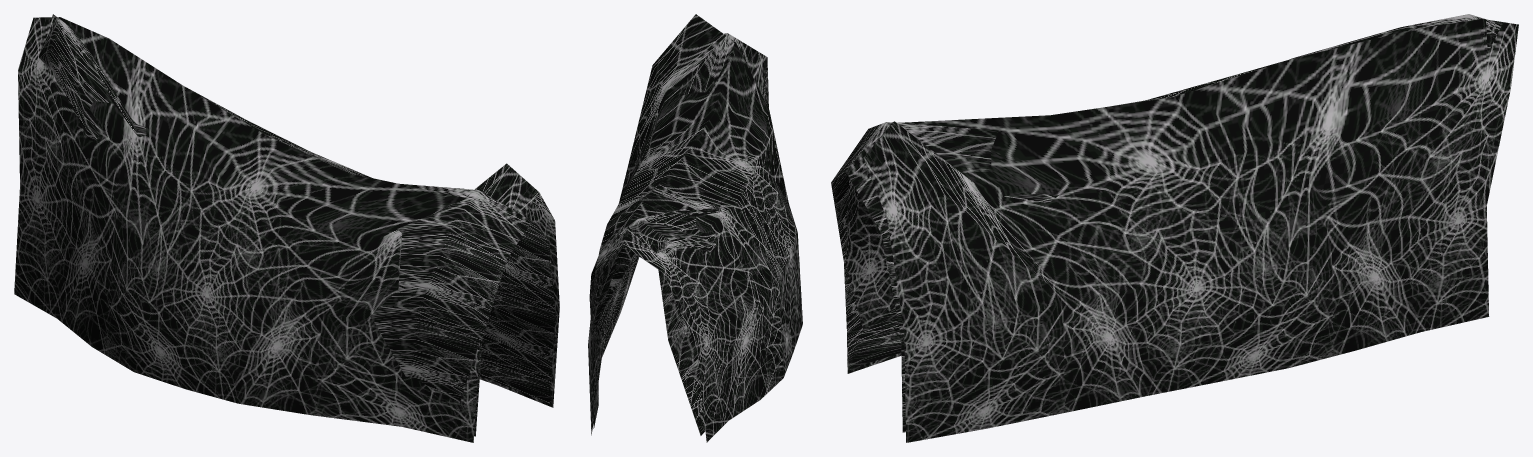
Rendered from INST_MIRK_COCOON.fbx.
The picture shows the model from 3 angles, left to right: view 1: azimuth 30°, elevation 25°; view 2: azimuth 150°, elevation 25°; view 3: azimuth 270°, elevation 25°; orthographic projection. The views are drawn at different scales.
Visible parts, largest first — view 1: INST_MIRK_COCOON; view 2: INST_MIRK_COCOON; view 3: INST_MIRK_COCOON.
Part boxes in pixels (left/top/right/bottom): INST_MIRK_COCOON: left=14, top=14, right=559, bottom=442; INST_MIRK_COCOON: left=588, top=14, right=802, bottom=442; INST_MIRK_COCOON: left=831, top=14, right=1518, bottom=442.
Bounding box in the file's own units: 96430 × 78382 × 164904.
1 material, 1 textured.
